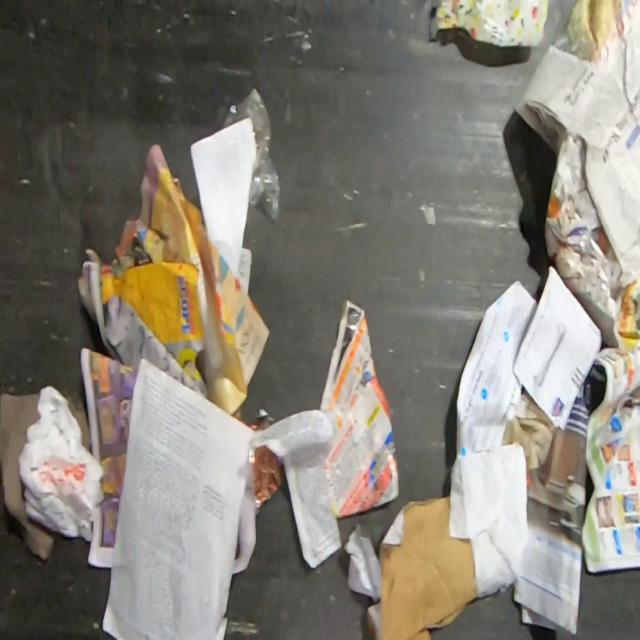cardboard: (366, 496, 479, 640)
soft_plastic: (222, 83, 282, 222), (434, 0, 551, 51)
